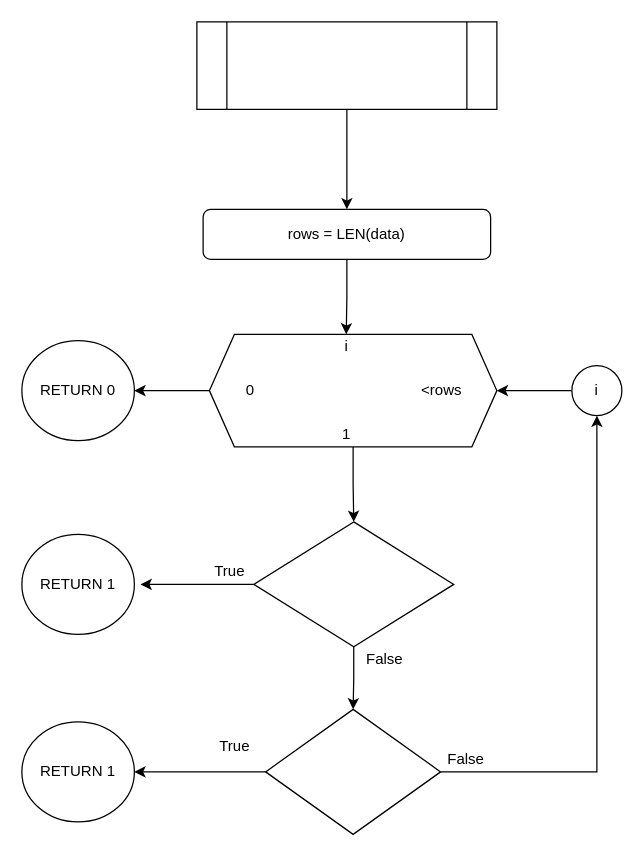
Some shapes in this 644 by 856 pixel diagram are drawn without their labels. Each missing label, with the centre of its shape:
FUNCTION check_usernameID(data, username): pixel 346 65
username == data[i][0]: pixel 353 584
username == data[i][2]: pixel 352 771
